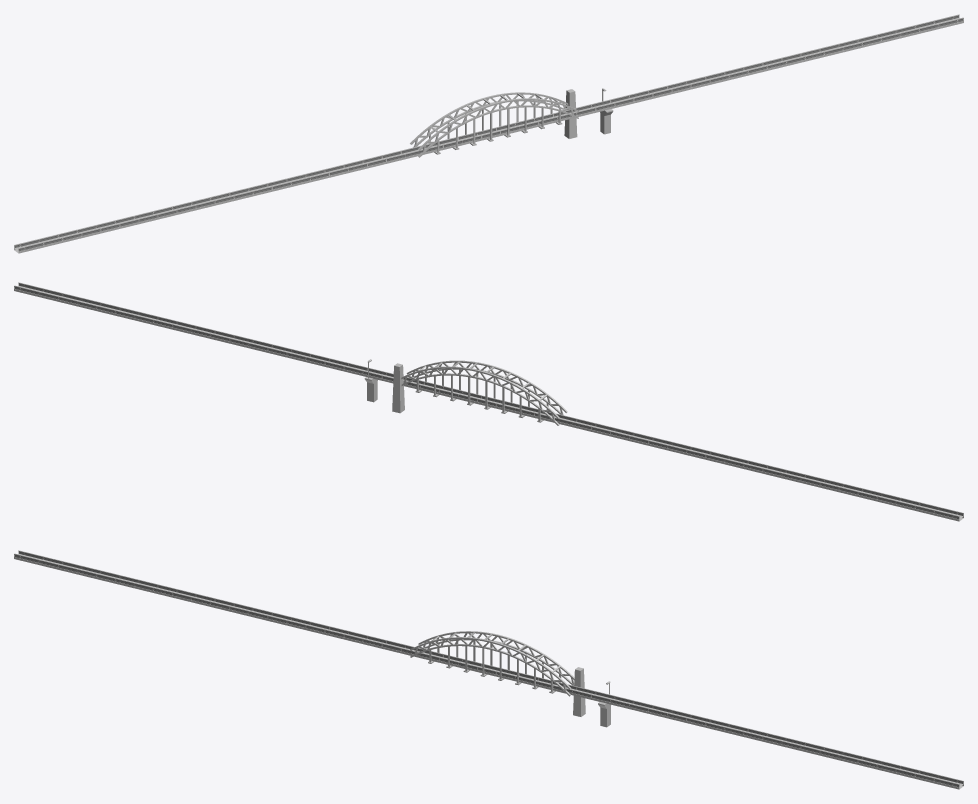
File: bridge.fbx
The picture shows the model from 3 angles, top to bottom: view 1: azimuth 30°, elevation 25°; view 2: azimuth 150°, elevation 25°; view 3: azimuth 330°, elevation 25°; orthographic projection.
Visible parts, largest first — view 1: pCube1, polySurface276, pCube41, pCube31, pCube28, pCube29; view 2: pCube1, polySurface276, pCube31, pCube41, pCube29, pCube28, polySurface12; view 3: pCube1, polySurface276, pCube41, pCube31, pCube28, pCube29.
Part boxes in pixels (left/top/right/bottom): pCube1: left=14, top=17, right=963, bottom=253; polySurface276: left=410, top=92, right=578, bottom=157; pCube41: left=18, top=18, right=963, bottom=251; pCube31: left=14, top=15, right=959, bottom=247; pCube28: left=18, top=17, right=963, bottom=248; pCube29: left=14, top=14, right=959, bottom=245; pCube1: left=14, top=285, right=963, bottom=521; polySurface276: left=401, top=360, right=567, bottom=425; pCube31: left=14, top=286, right=959, bottom=518; pCube41: left=18, top=283, right=963, bottom=515; pCube29: left=14, top=285, right=959, bottom=516; pCube28: left=18, top=282, right=963, bottom=513; polySurface12: left=392, top=363, right=404, bottom=413; pCube1: left=14, top=553, right=963, bottom=789; polySurface276: left=410, top=631, right=574, bottom=696; pCube41: left=14, top=554, right=959, bottom=787; pCube31: left=18, top=551, right=963, bottom=783; pCube28: left=14, top=553, right=959, bottom=784; pCube29: left=18, top=550, right=963, bottom=781.
Size of the model in its own units: 4028 by 243 by 83.52.
